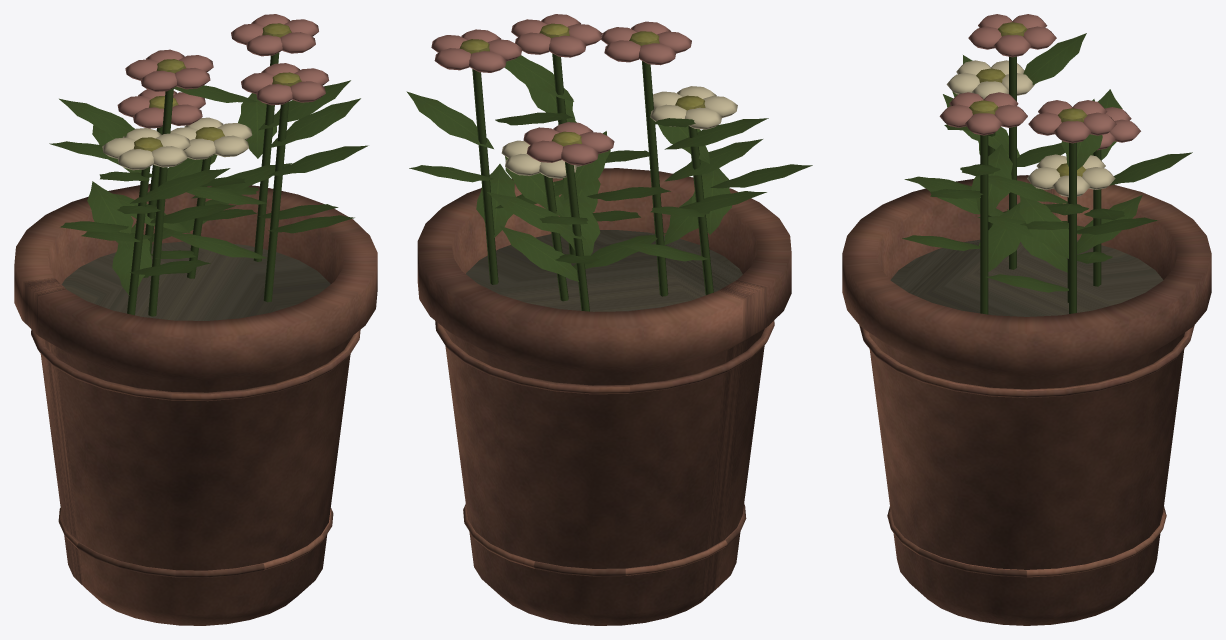
File: Planter_Pot.gltf
3 renders of one model, left to right at view 1: azimuth 30°, elevation 25°; view 2: azimuth 150°, elevation 25°; view 3: azimuth 270°, elevation 25°, orthographic. The views are drawn at different scales.
Visible parts, largest first — view 1: Planter_Pot; view 2: Planter_Pot; view 3: Planter_Pot.
Boxes of the visible parts, x1,y1,x2,y2 form: Planter_Pot: (14,14,377,625); Planter_Pot: (406,14,812,625); Planter_Pot: (842,14,1211,625).
Size of the model in its own units: 0.4581 by 0.6765 by 0.42.
7 materials, 5 textured.
